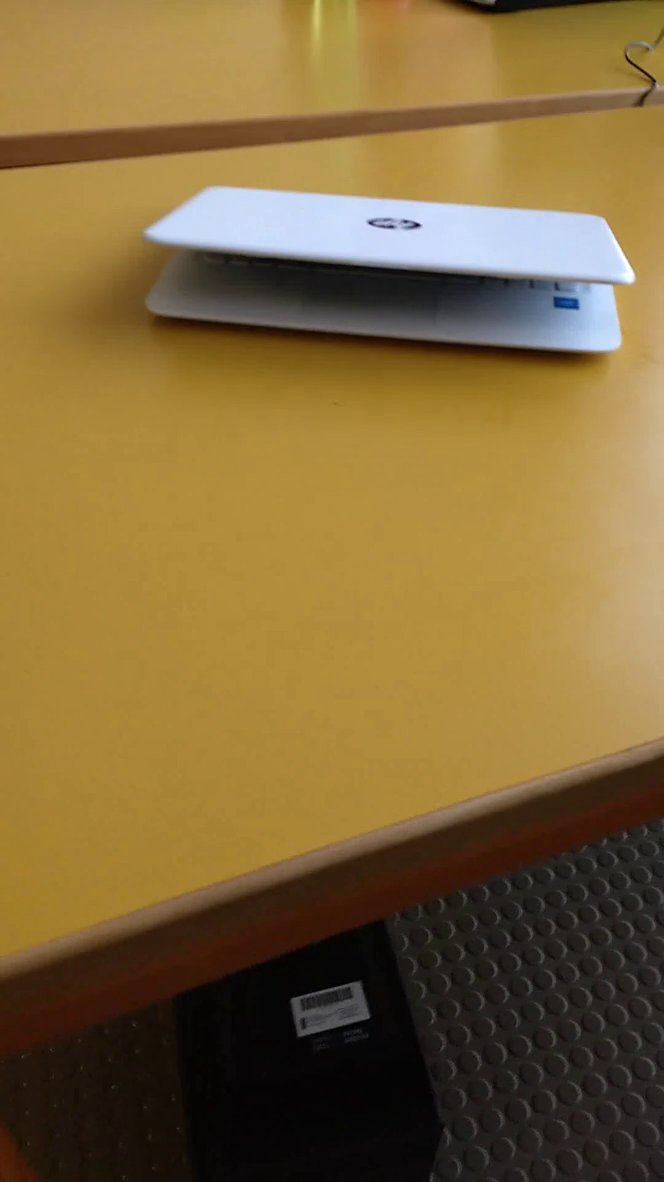laptop: (127, 175, 657, 376)
